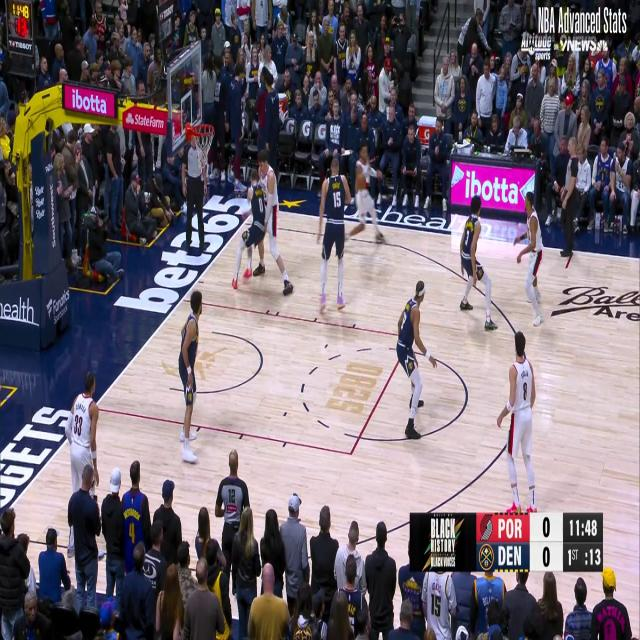ball: (356, 166, 368, 196)
judge: (216, 456, 252, 582), (183, 125, 208, 258), (558, 138, 580, 262)
player: (251, 148, 294, 298), (494, 344, 534, 505), (397, 286, 435, 437), (459, 191, 497, 336), (316, 153, 348, 307), (67, 388, 100, 534), (515, 193, 549, 328), (351, 140, 387, 246), (234, 173, 265, 295), (178, 293, 202, 443)
